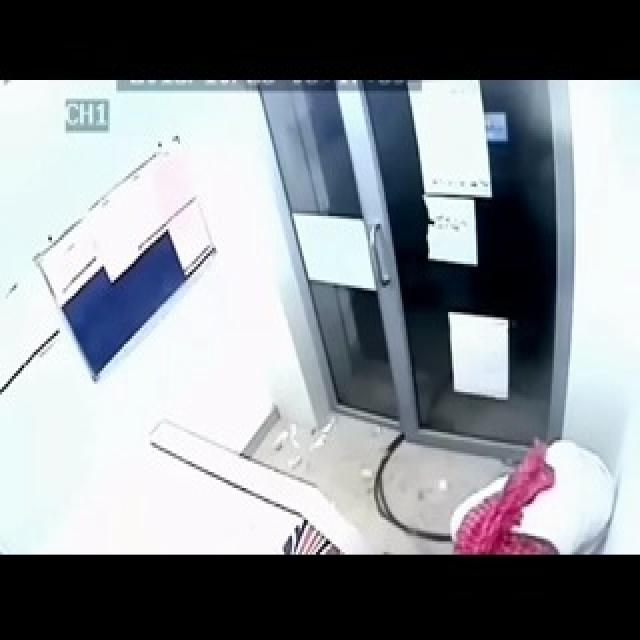thief: (400, 427, 627, 567)
